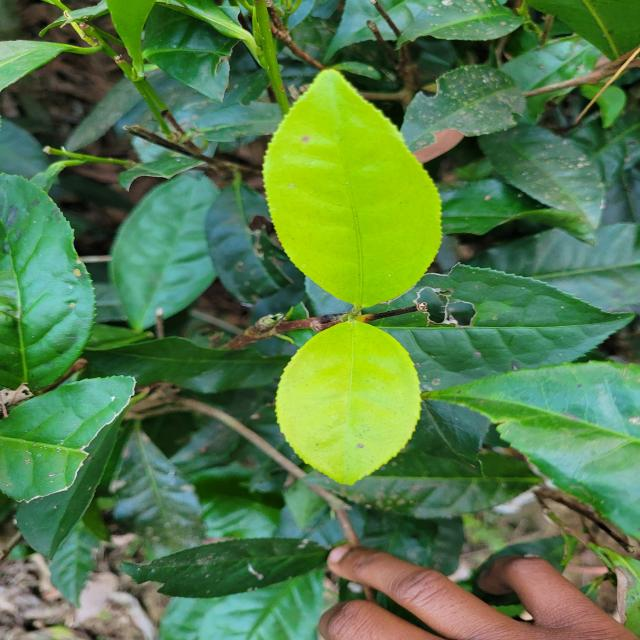Catagory A(1-2 days): (258, 63, 464, 308)
